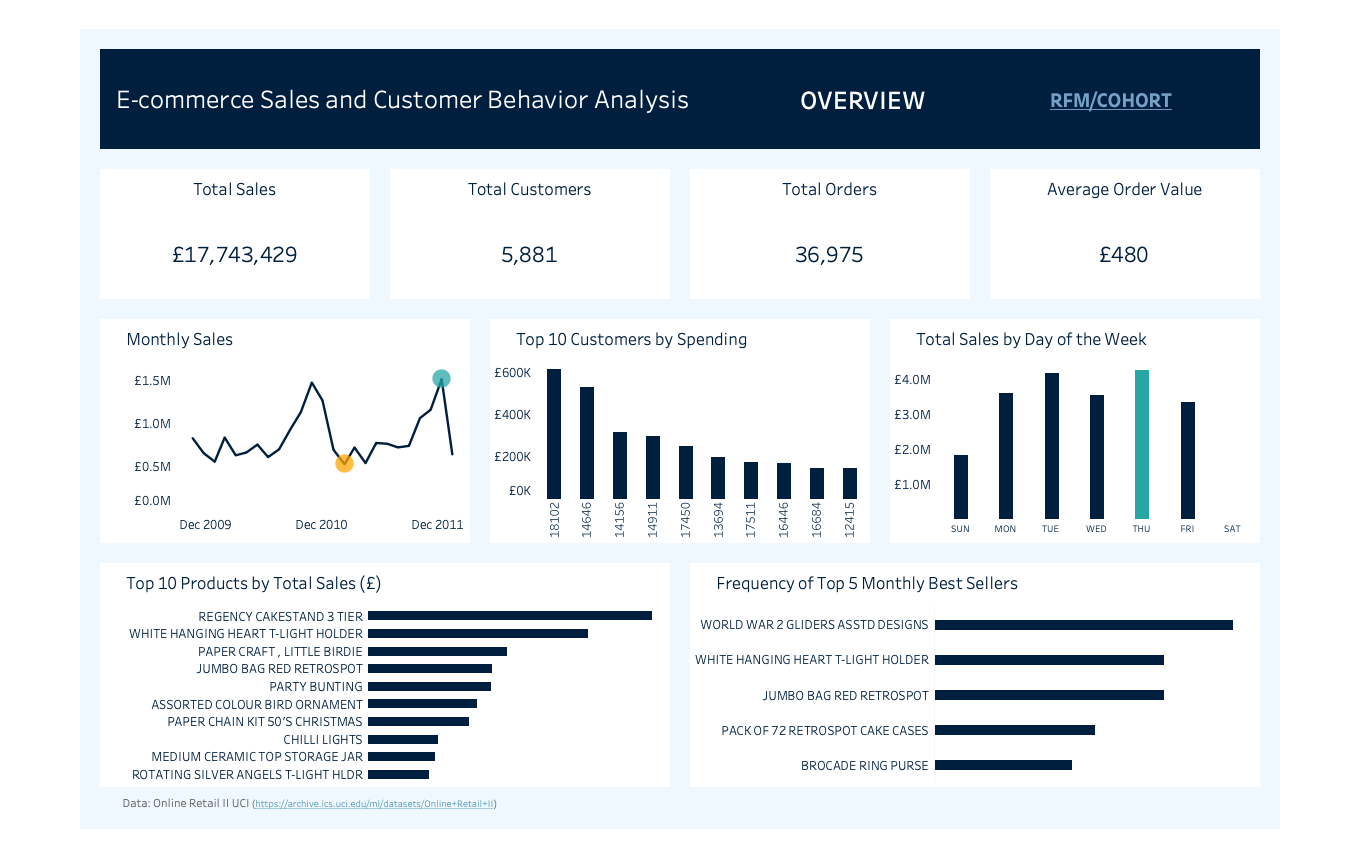

The page's visual inventory and layout, read from the dashboard file:
{"tool":"tableau","page":{"name":"E Commerce Overview","canvas":[1200,800],"ordinal":0},"visuals":[{"type":"text","box":[20,20,597,100]},{"type":"text","box":[617,20,332,100]},{"type":"dashboard-object","box":[949,20,164,100]},{"type":"text","box":[20,140,270,40]},{"type":"text","box":[310,140,280,40]},{"type":"text","box":[610,140,280,40]},{"type":"text","box":[910,140,270,40]},{"type":"worksheet","title":"TotalSales","mark":"Automatic","box":[20,180,270,90]},{"type":"worksheet","title":"TotalCustomer","mark":"Automatic","box":[310,180,280,90]},{"type":"worksheet","title":"TotalOrder","mark":"Automatic","box":[610,180,280,90]},{"type":"worksheet","title":"AOV","mark":"Automatic","box":[910,180,270,90]},{"type":"text","box":[20,290,370,40]},{"type":"text","box":[410,290,380,40]},{"type":"text","box":[810,290,370,40]},{"type":"worksheet","title":"MonthlySalesTrend","mark":"Line","rows":["total_sales","Calculation_4254986862250762240"],"cols":["year_month"],"box":[20,330,370,184]},{"type":"worksheet","title":"Top10Customers","mark":"Bar","rows":["total_purchase"],"cols":["customerid"],"box":[410,330,380,184]},{"type":"worksheet","title":"SalesDayofWeek","mark":"Automatic","rows":["total_sales"],"cols":["day_name"],"box":[810,330,370,184]},{"type":"text","box":[20,534,570,40]},{"type":"text","box":[610,534,570,40]},{"type":"worksheet","title":"Top10ProductSales","mark":"Bar","rows":["description"],"cols":["total_sales"],"box":[20,574,570,184]},{"type":"worksheet","title":"FreqInTop5Monthly","mark":"Automatic","rows":["description"],"cols":["description"],"box":[610,574,570,184]},{"type":"text","box":[0,768,1200,32]}]}

Visuals, with their boxes on the page's 1200x800 design canvas (x1, y1, x2, y2). These are canvas units, not pixel positions in the 1353x864 screenshot, which may show the page scaled, cropped or inside an application window:
text: 20/20/617/120
text: 617/20/949/120
dashboard-object: 949/20/1113/120
text: 20/140/290/180
text: 310/140/590/180
text: 610/140/890/180
text: 910/140/1180/180
"TotalSales" worksheet: 20/180/290/270
"TotalCustomer" worksheet: 310/180/590/270
"TotalOrder" worksheet: 610/180/890/270
"AOV" worksheet: 910/180/1180/270
text: 20/290/390/330
text: 410/290/790/330
text: 810/290/1180/330
"MonthlySalesTrend" worksheet (Line marks): 20/330/390/514
"Top10Customers" worksheet (Bar marks): 410/330/790/514
"SalesDayofWeek" worksheet: 810/330/1180/514
text: 20/534/590/574
text: 610/534/1180/574
"Top10ProductSales" worksheet (Bar marks): 20/574/590/758
"FreqInTop5Monthly" worksheet: 610/574/1180/758
text: 0/768/1200/800
